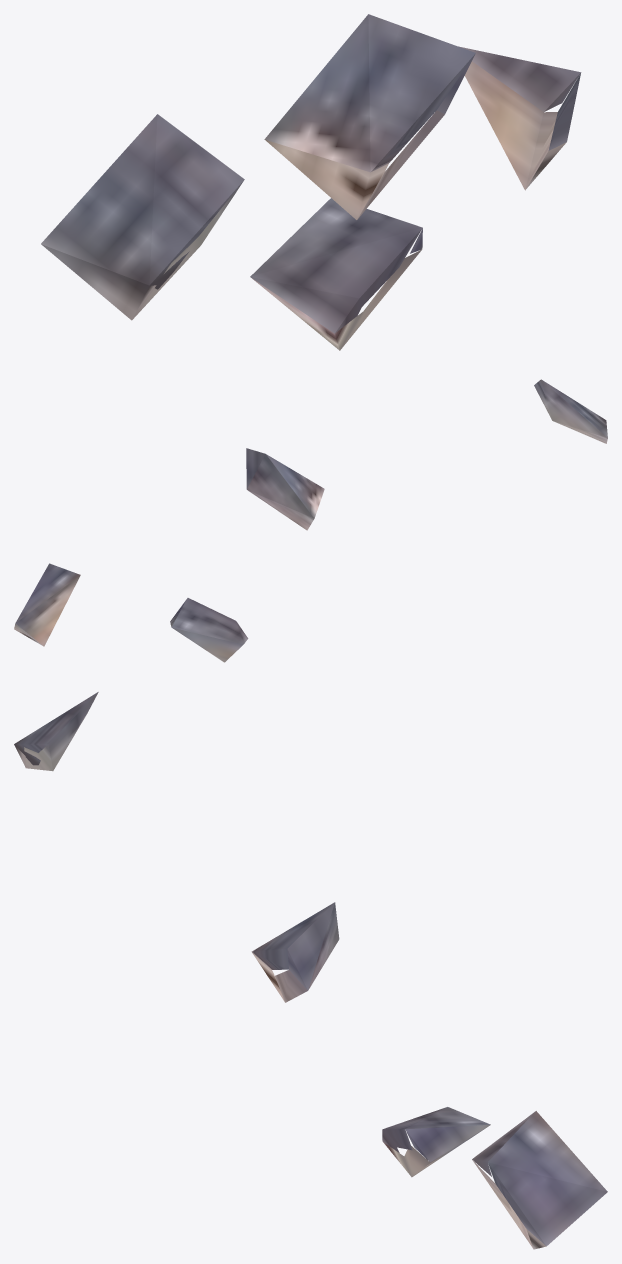
3 renders of one model, top to bottom at view 1: azimuth 30°, elevation 25°; view 2: azimuth 150°, elevation 25°; view 3: azimuth 270°, elevation 25°, orthographic. The views are drawn at different scales.
Size of the model in its own units: 51 by 28.5 by 44.09.
Materials: 1 (1 with a texture image).
